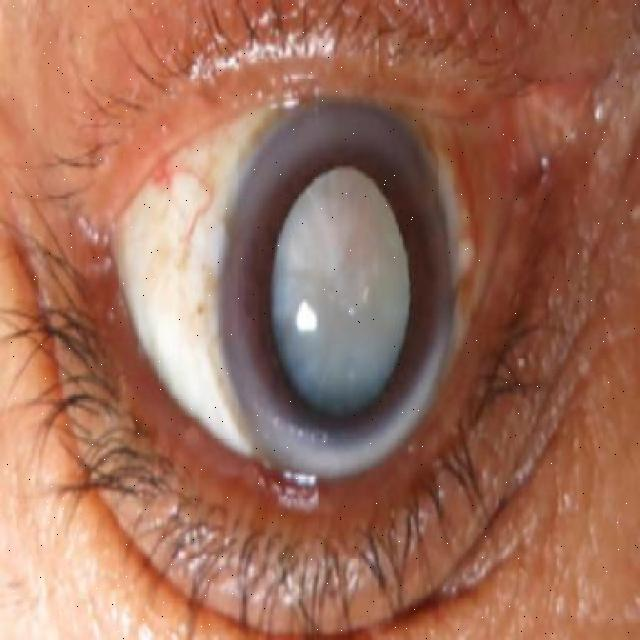Cataract: (226, 94, 451, 482)
